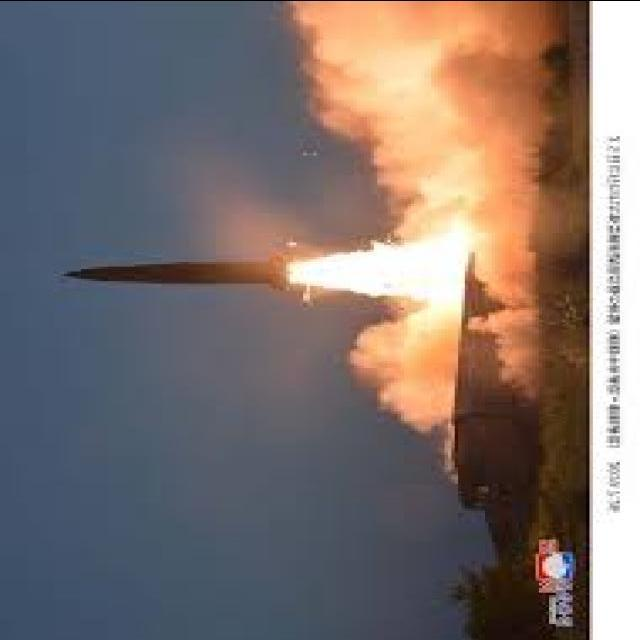missile: (48, 250, 314, 297)
